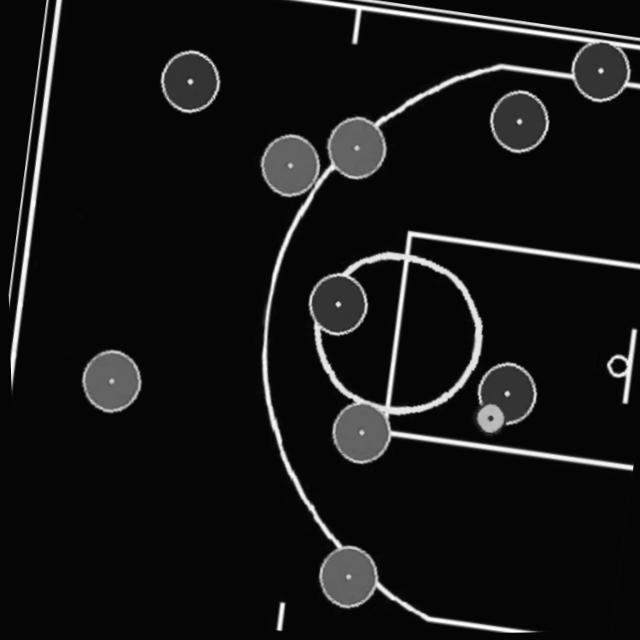Basketball: (469, 403, 505, 437)
Team_A: (469, 358, 540, 430), (155, 45, 225, 118), (565, 37, 636, 107), (302, 269, 371, 340), (485, 87, 553, 159)
Team_B: (254, 130, 324, 202), (325, 397, 394, 468), (311, 542, 380, 613), (76, 345, 144, 416), (322, 113, 390, 183)
